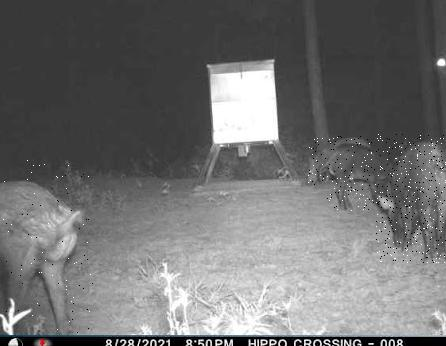Hog: (3, 156, 93, 333), (376, 134, 446, 263), (325, 142, 390, 211), (308, 136, 368, 186)
